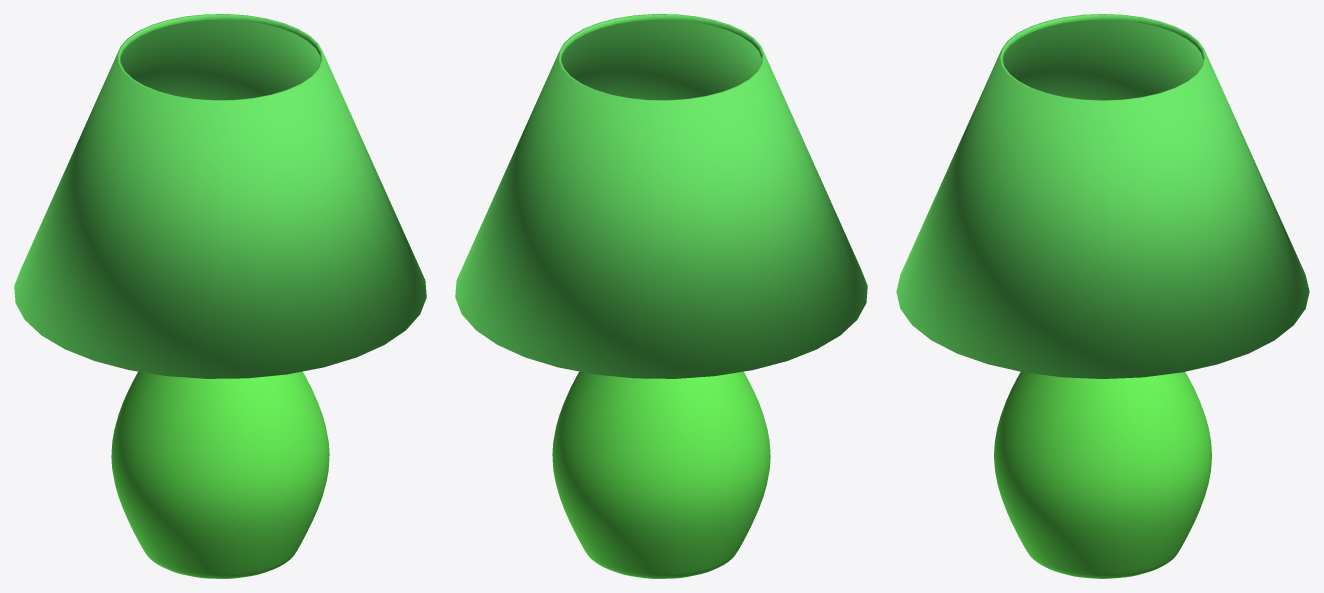
Rendered from Lamp1.gltf.
3 renders of one model, left to right at view 1: azimuth 30°, elevation 25°; view 2: azimuth 150°, elevation 25°; view 3: azimuth 270°, elevation 25°, orthographic.
Parts seen in each view (by area): view 1: Lampshade.001; view 2: Lampshade.001; view 3: Lampshade.001.
Boxes of the visible parts, <box> form: Lampshade.001: <box>14,14,426,578</box>; Lampshade.001: <box>455,14,867,578</box>; Lampshade.001: <box>896,14,1309,578</box>.
Bounding box in the file's own units: 0.3553 × 0.4655 × 0.3553.
